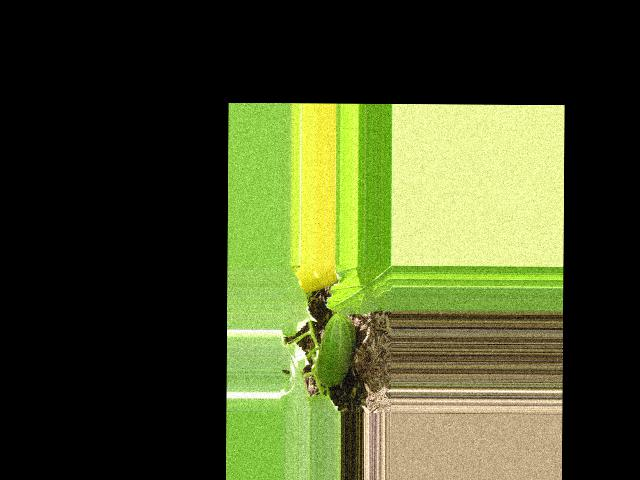cucumber: (316, 313, 357, 387)
